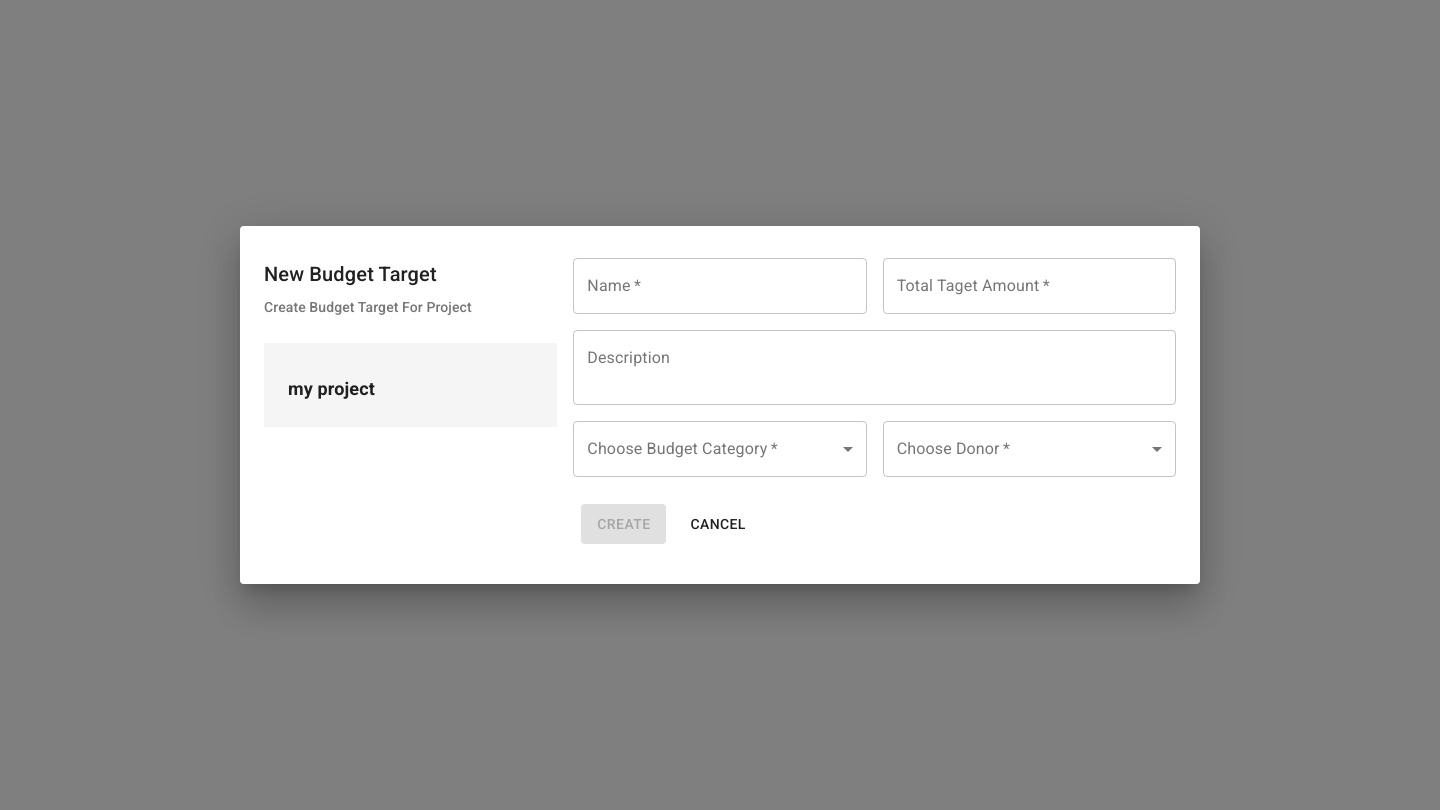
Test: Budget Target Dialog tests › Submit button enabled
Type "bud tar" into the field with test id "createBudgetTargetNameInput" at (720, 286), box [573, 258, 867, 314]
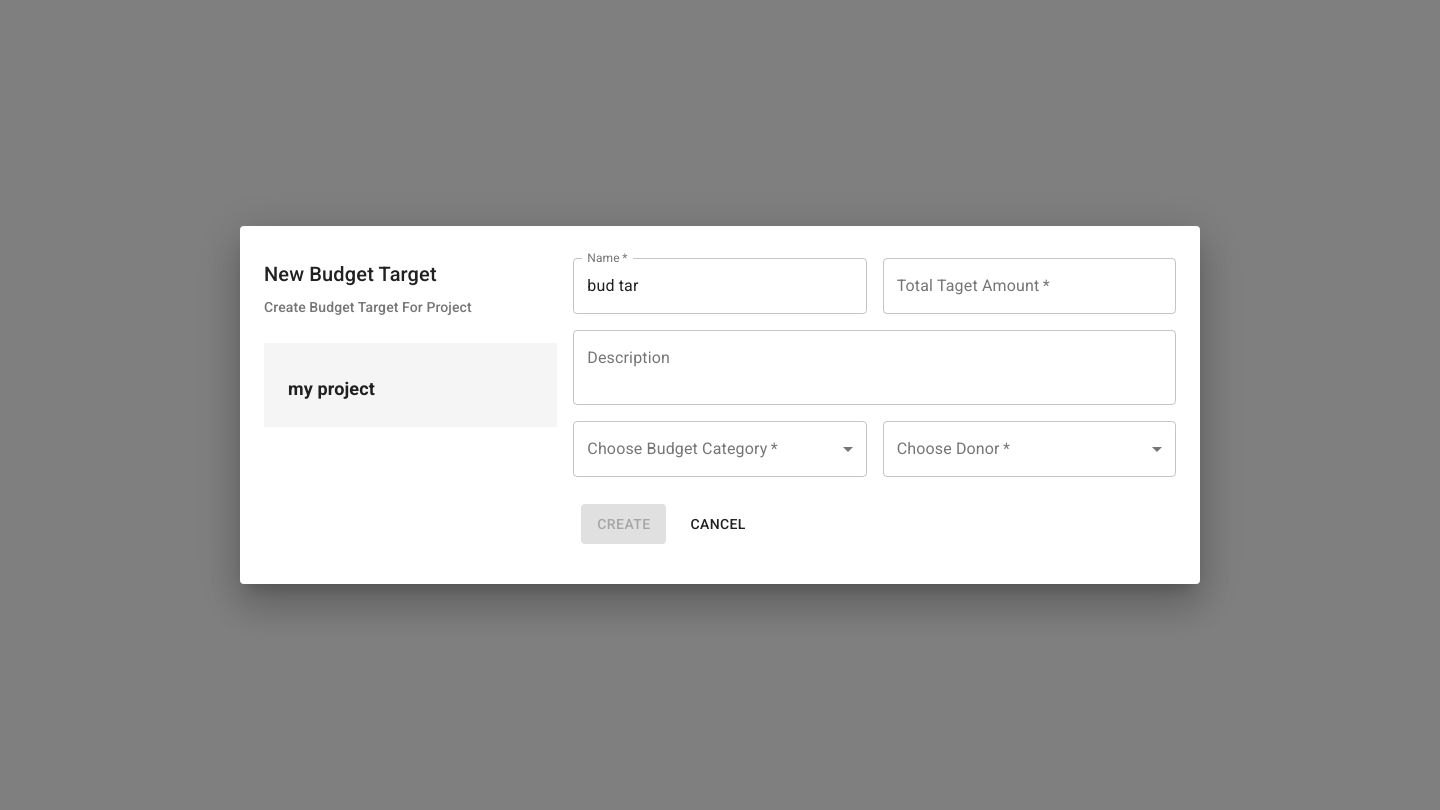
Type "213" into the number field with test id "createBudgetTargetTotalTargetAmountInput" at (1029, 286), box [883, 258, 1176, 314]
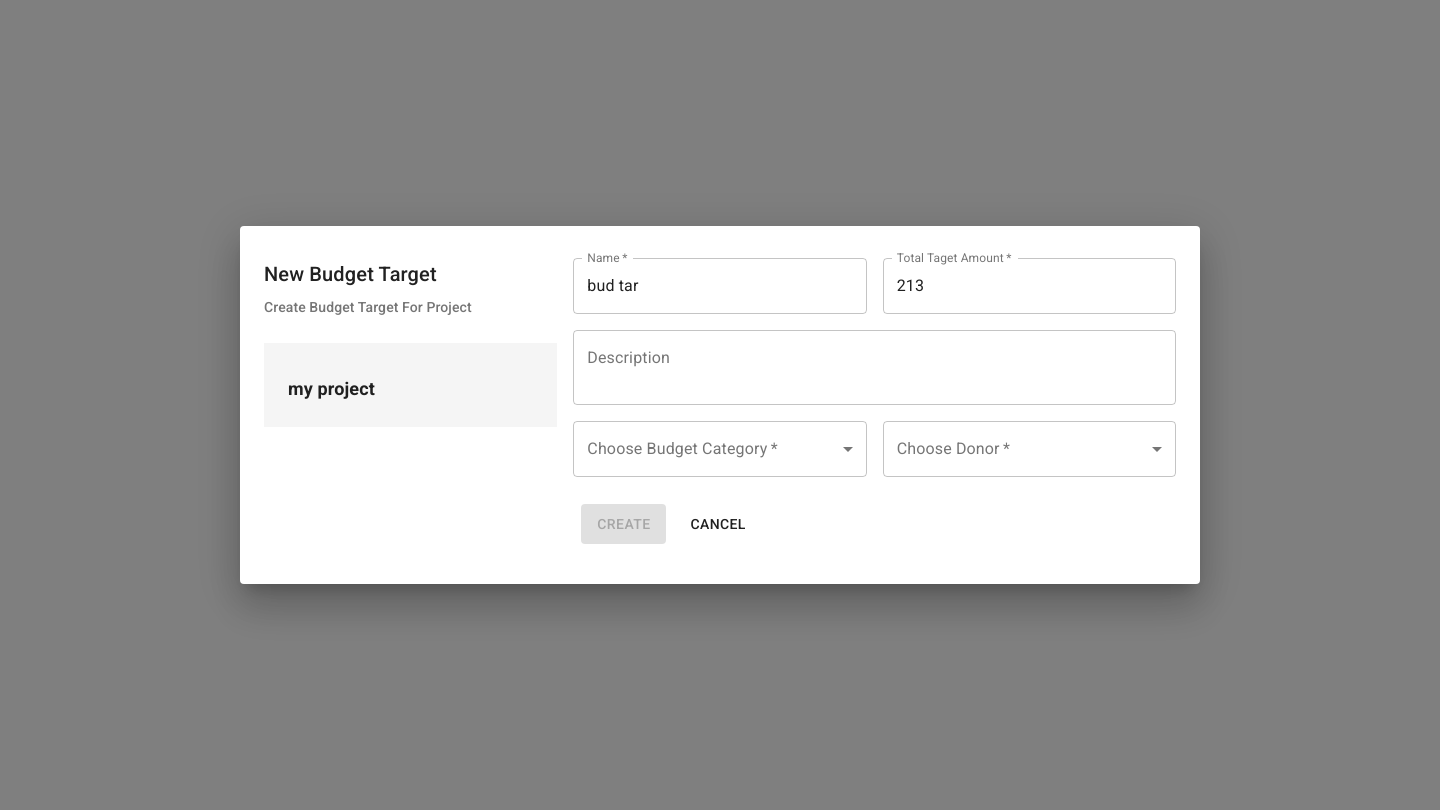
Type "desc" into the text box with test id "createBudgetTargetDescriptionInput" at (875, 367), box [587, 348, 1162, 386]
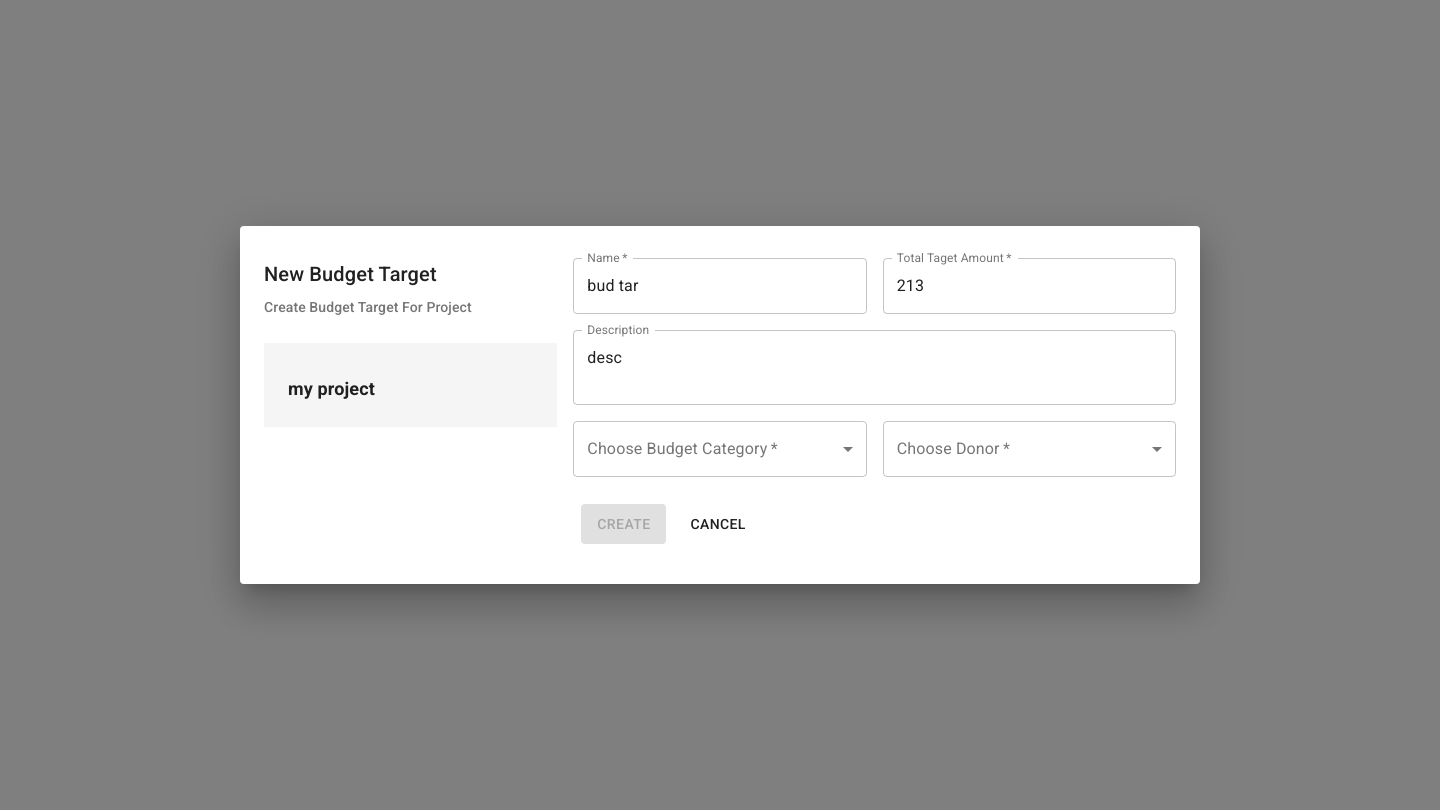
Replace the text in the field with test id "createBudgetTargetBudgetCategoryOption" with "1" at (720, 449), box [573, 421, 867, 477]
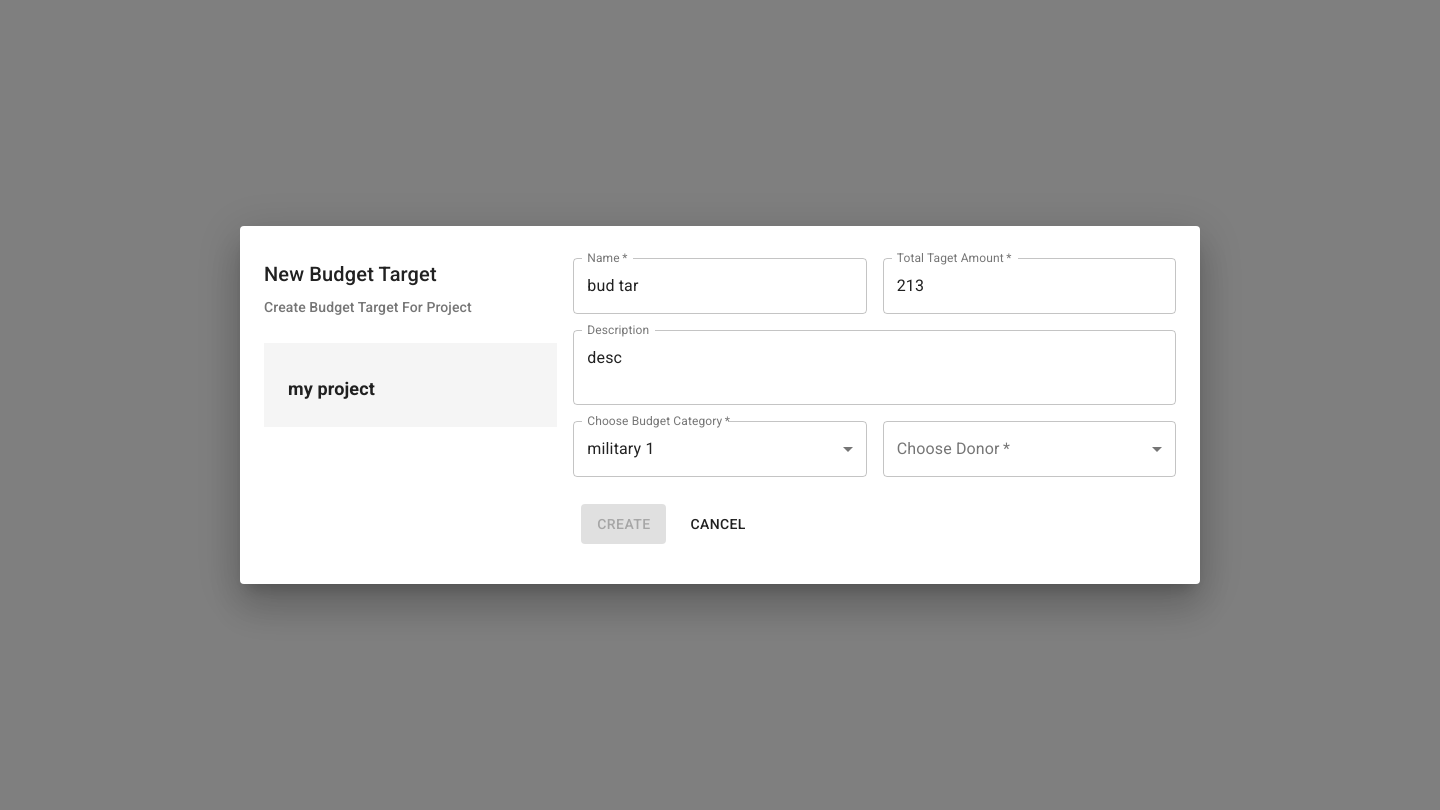
Replace the text in the field with test id "createBudgetTargetDonorOption" with "1" at (1029, 449), box [883, 421, 1176, 477]
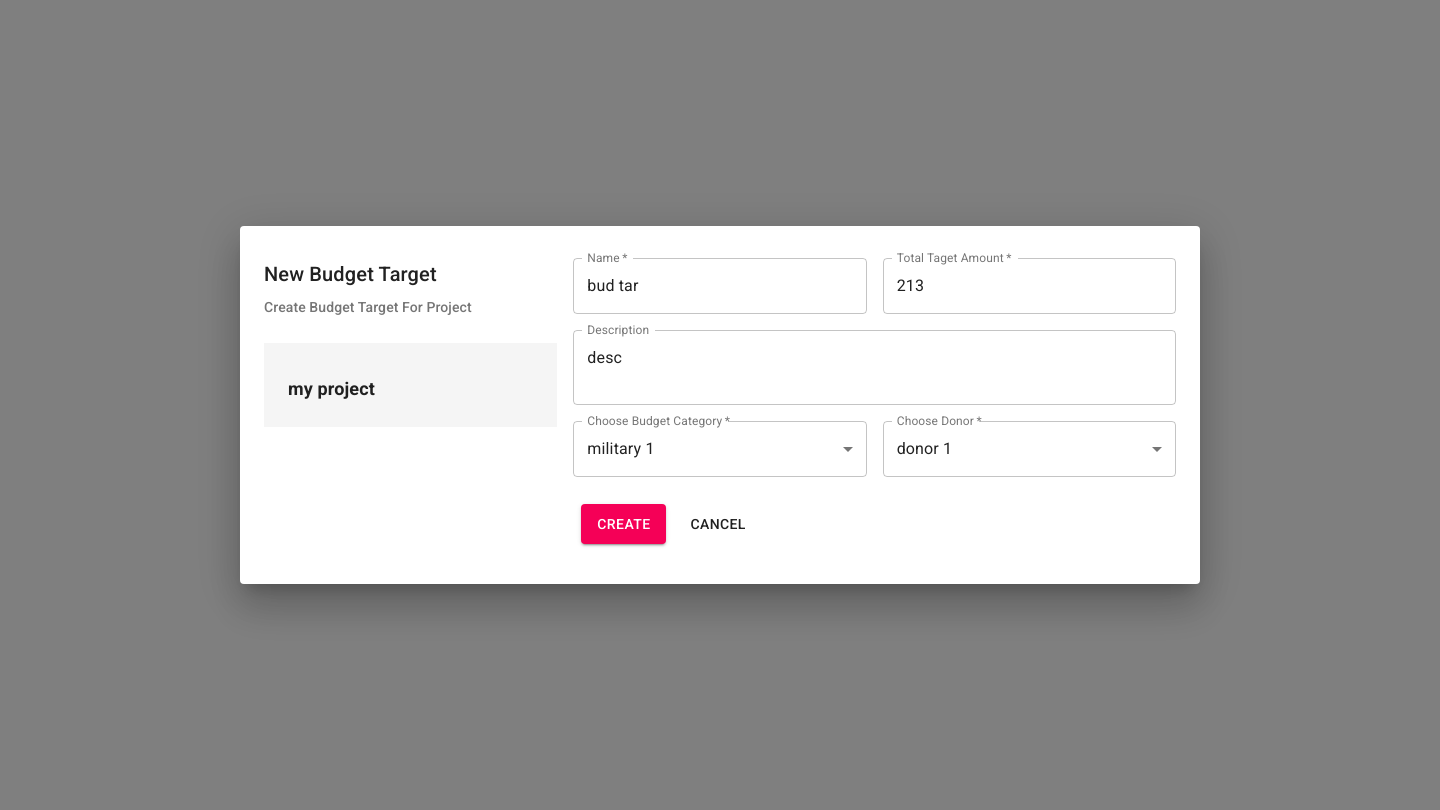
Expected: the button with test id "createSaveButton" is enabled, [581, 504, 666, 544]
